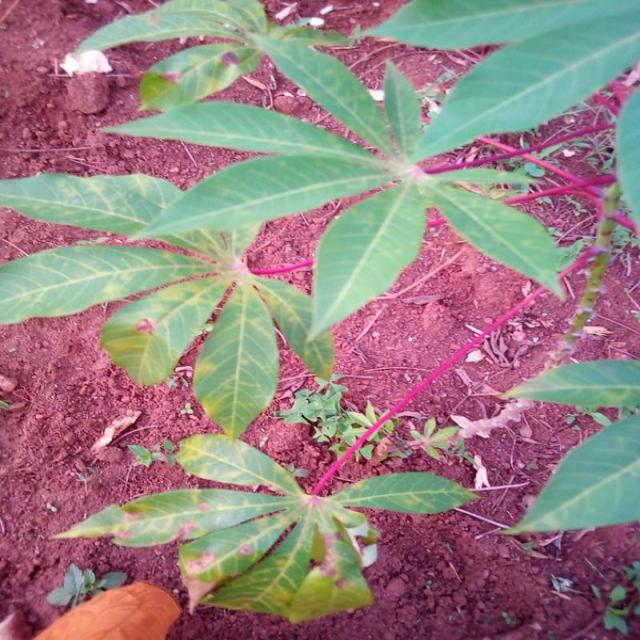cassava leaf: (0, 1, 638, 625), (496, 412, 638, 538), (192, 276, 280, 439)
